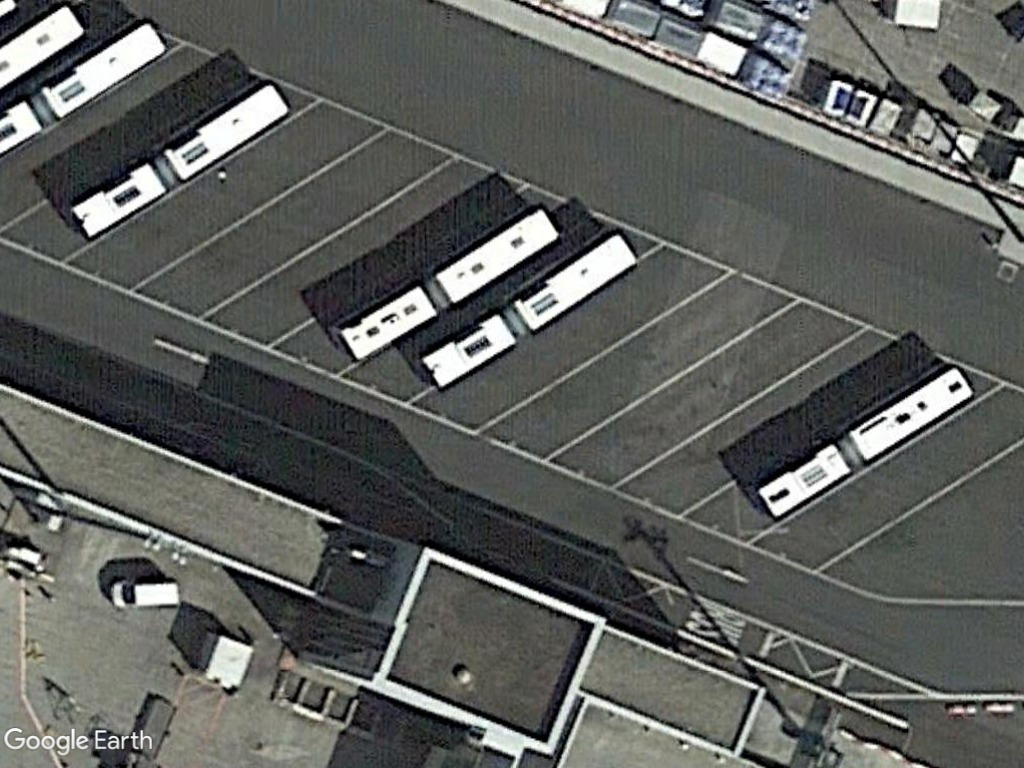bus: (415, 229, 644, 394), (333, 205, 560, 368), (65, 85, 290, 249), (752, 364, 980, 521), (37, 12, 172, 124)
van: (108, 579, 183, 609)
